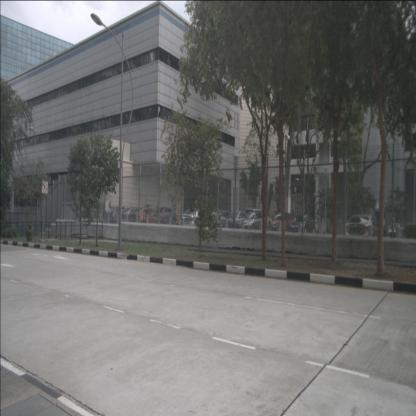vehicle-car: (345, 213, 383, 247), (179, 208, 215, 234), (127, 206, 165, 229), (208, 211, 239, 232), (104, 205, 132, 227), (118, 206, 147, 227), (290, 213, 316, 234), (240, 212, 266, 231), (272, 212, 294, 234), (153, 207, 176, 226), (227, 211, 250, 230), (386, 223, 404, 242)
